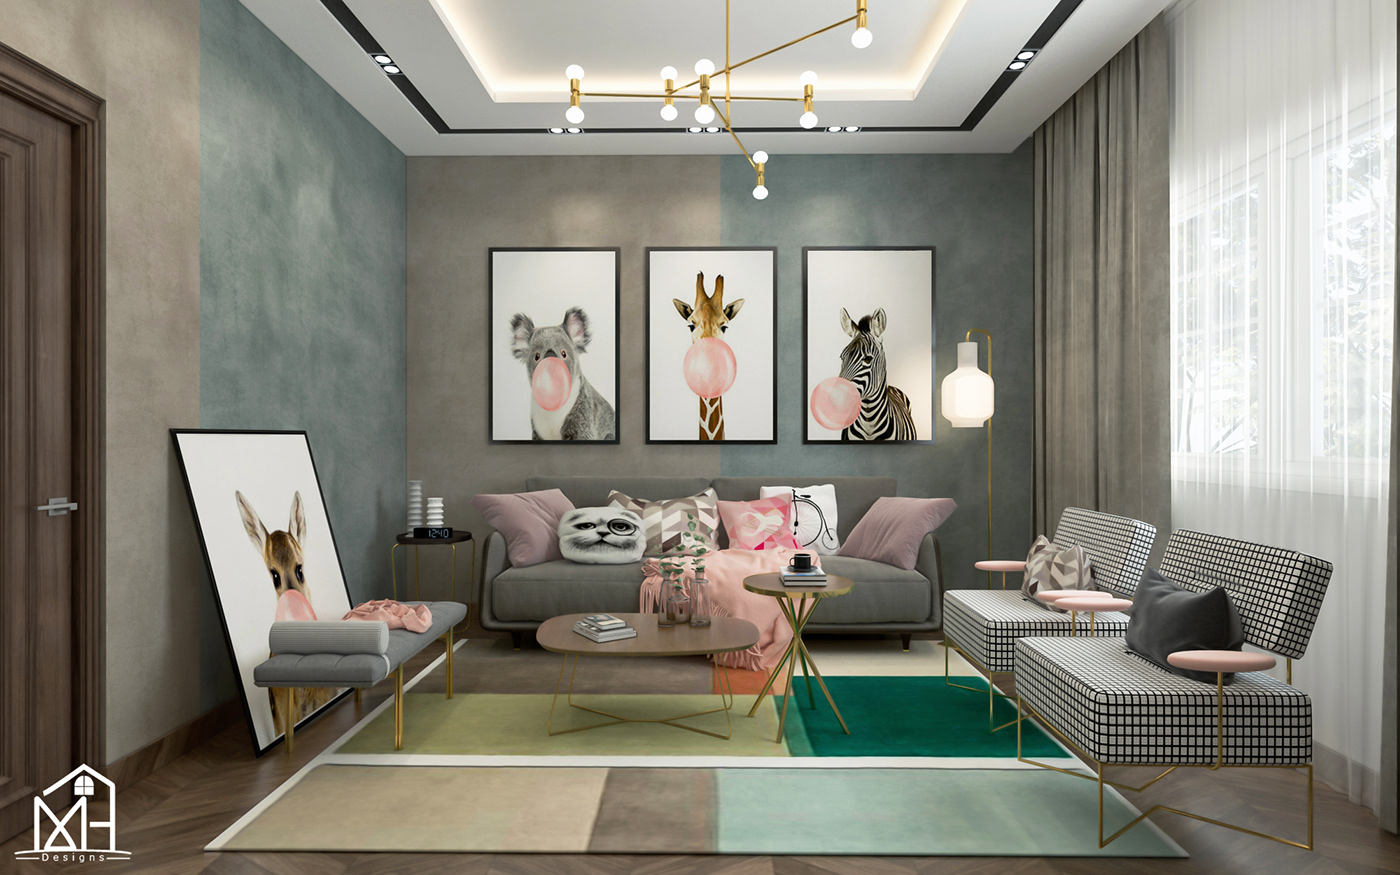hitam: (1132, 575, 1227, 679), (789, 554, 812, 570)
pink: (665, 550, 817, 619), (357, 600, 428, 631)
putih: (940, 342, 995, 429), (406, 481, 423, 524), (427, 496, 446, 523)
ungu: (844, 496, 949, 564)
